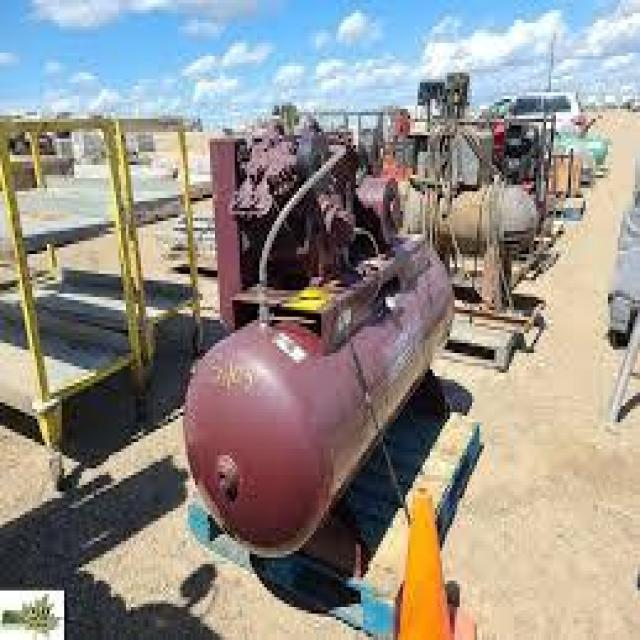compressor: (180, 128, 458, 560), (373, 70, 556, 370)
corrosion detected: (210, 448, 242, 504)
